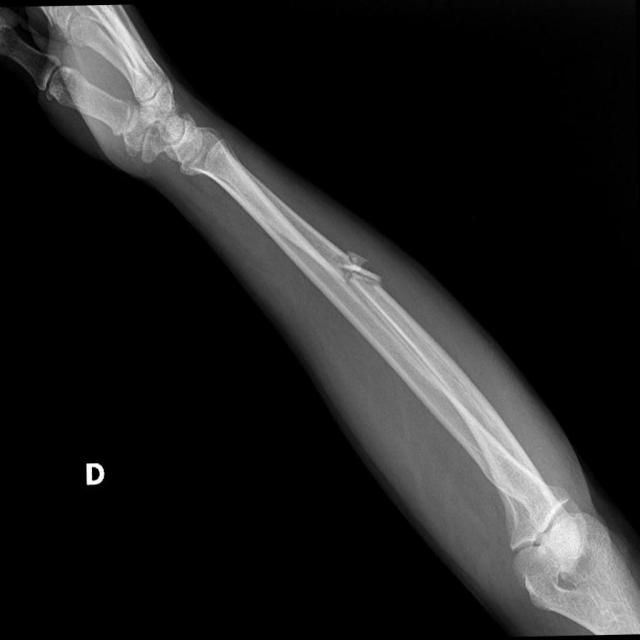Greenstick: (326, 234, 386, 316)
